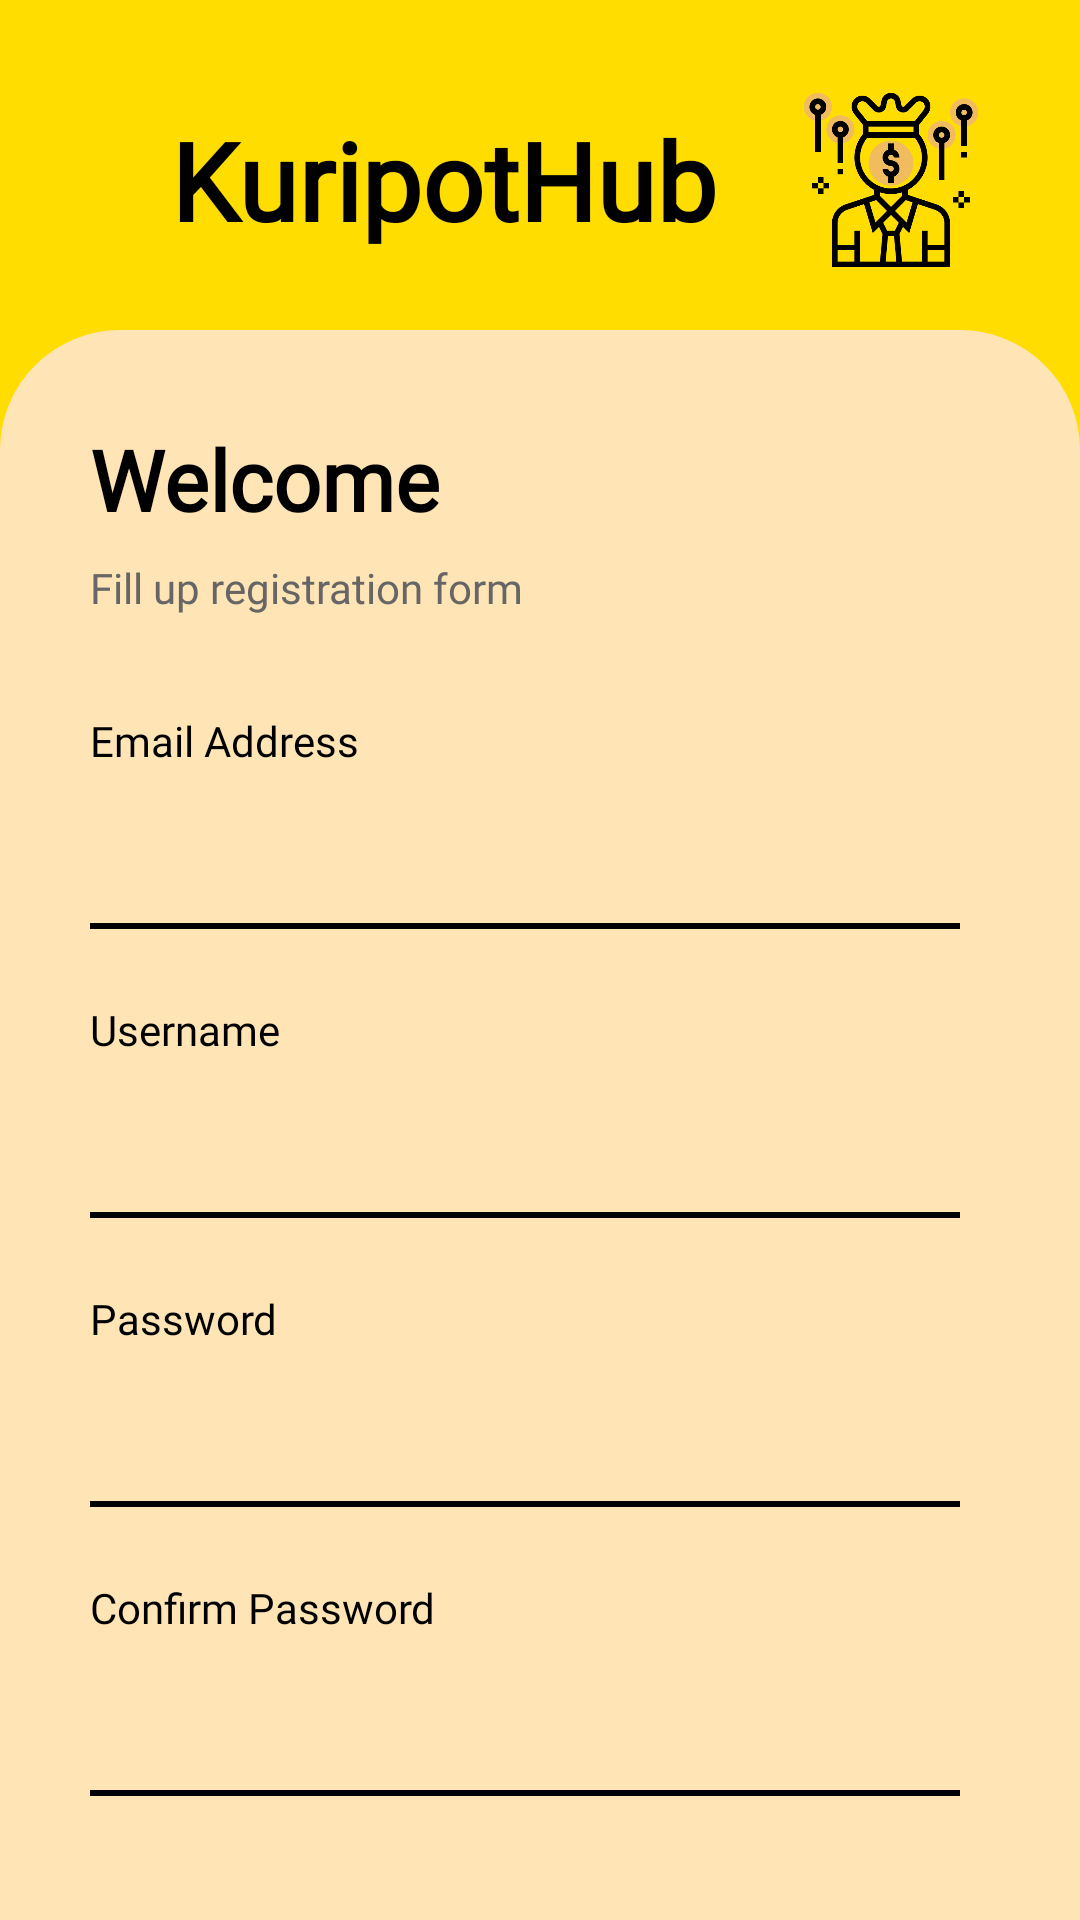

Icon click points for this 1080px×1920px phone screenshot, format [x,y]:
greedy: [891,180]
